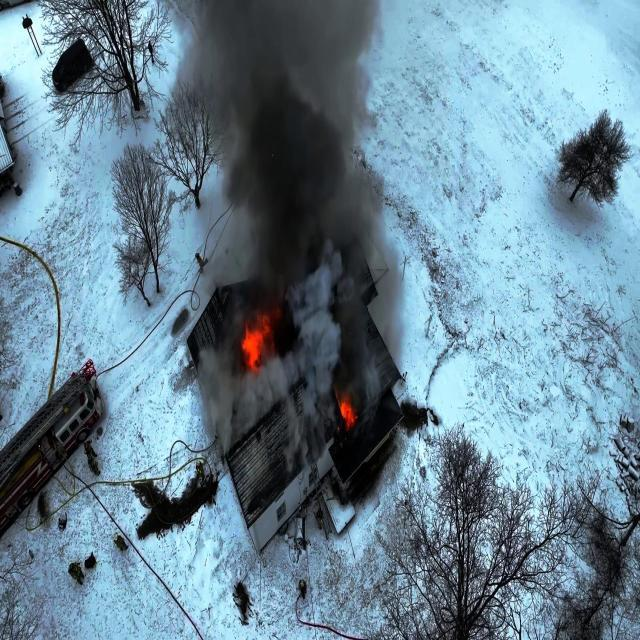Fire: (280, 311, 341, 464), (198, 354, 250, 456), (239, 304, 277, 372), (334, 393, 362, 438)
Smoke: (191, 0, 393, 307)
